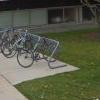Bicycle: (1, 18, 62, 80)
